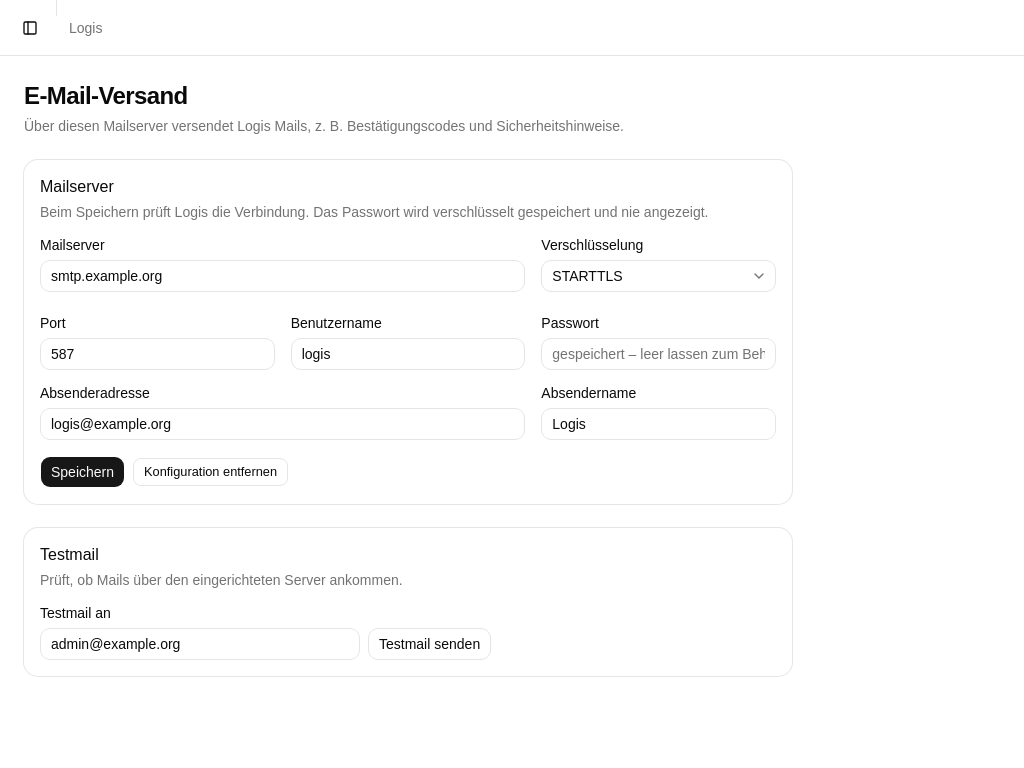
it: Outgoing mail server › sends a test mail to the entered address
Replace the text in the field labelled "Testmail an" with "test@example.org". click: (200, 644)
box: [40,628,360,660]
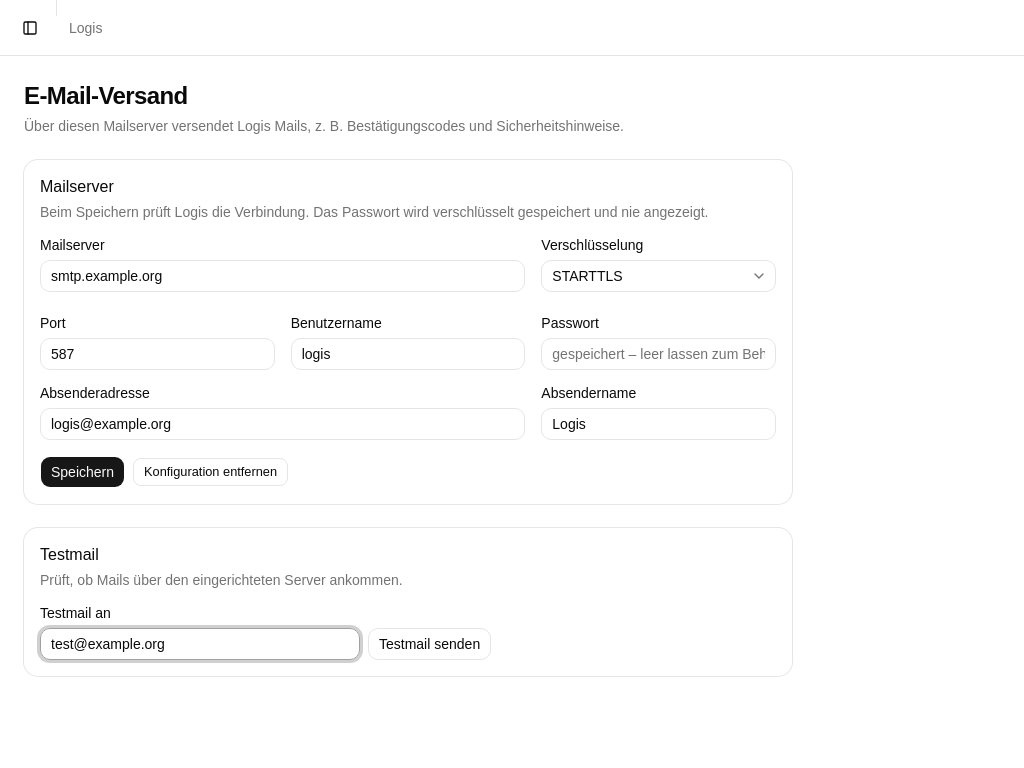
Click the button "Testmail senden". click: click(430, 644)
box: [368,628,491,660]
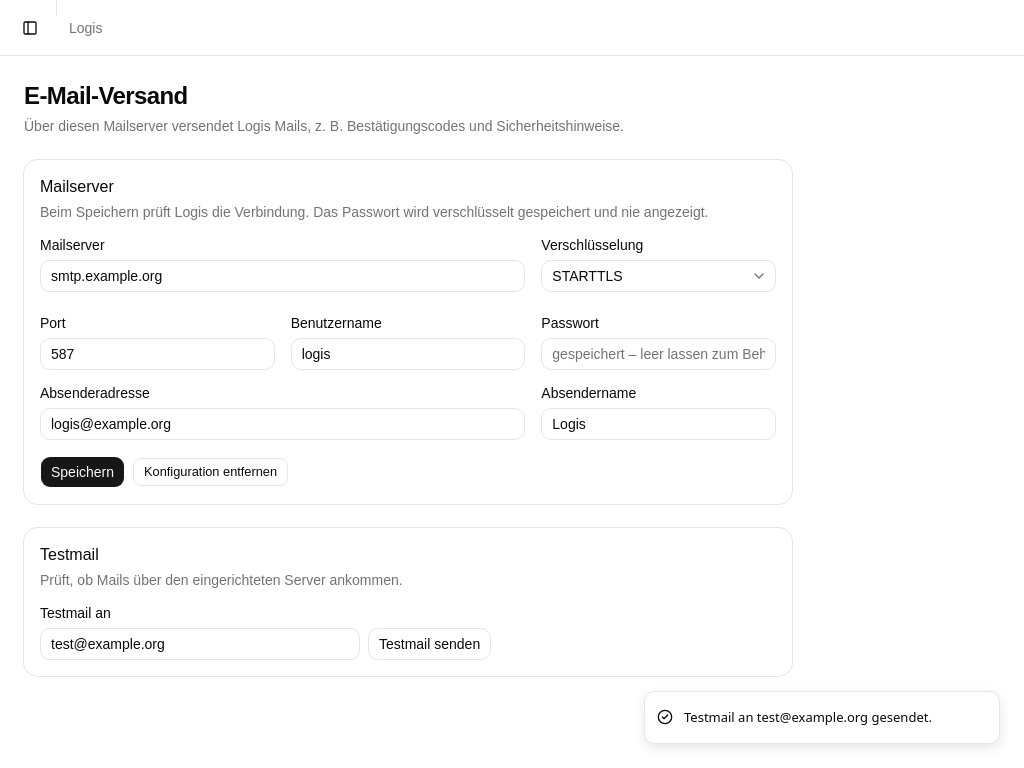
Now the text "Testmail an test@example.org gesendet." is shown, box [684,708,932,727]
